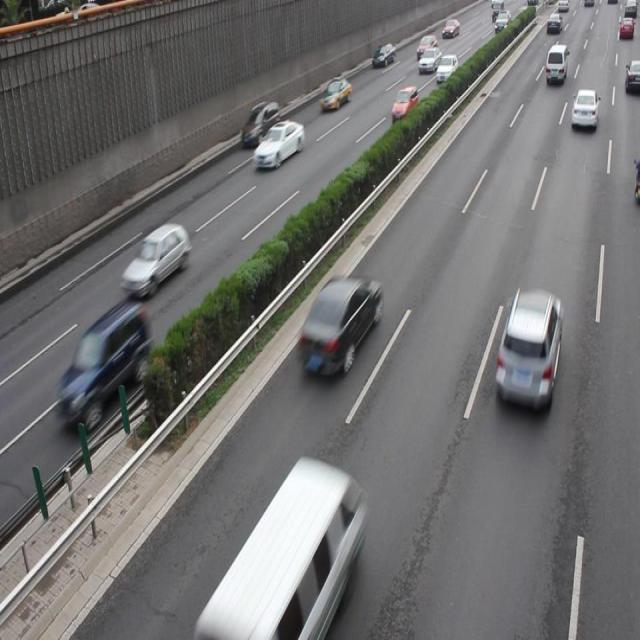car: (55, 301, 150, 433), (295, 272, 380, 382), (493, 288, 561, 414), (122, 221, 188, 298), (252, 120, 304, 168), (241, 99, 279, 148), (318, 75, 351, 113), (570, 88, 598, 129), (389, 87, 418, 122)
truck: (220, 461, 361, 640)
